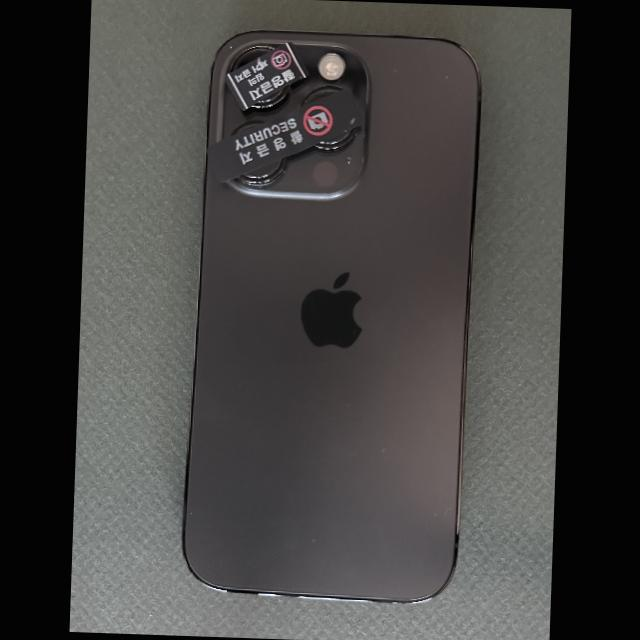lens: (231, 46, 274, 73), (241, 158, 286, 183), (314, 129, 357, 149)
phone: (181, 28, 482, 604)
sticker: (206, 88, 364, 183), (223, 42, 309, 110)
